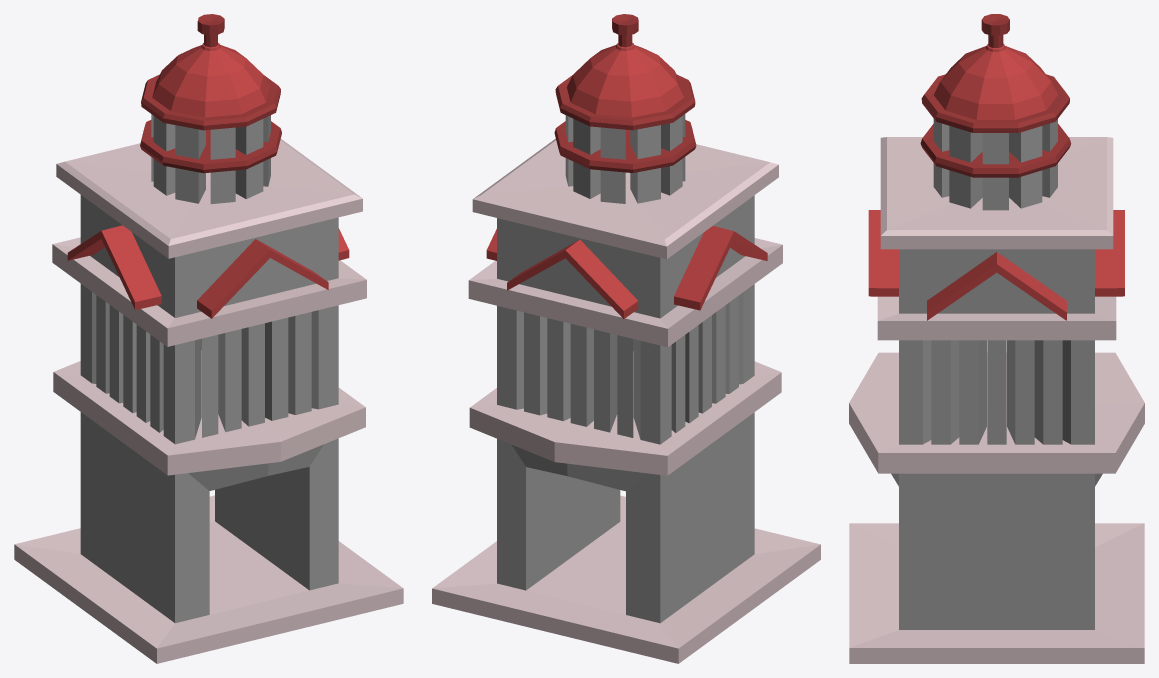
File: house8.fbx
3 views of the same model, side by side, from view 1: azimuth 30°, elevation 25°; view 2: azimuth 150°, elevation 25°; view 3: azimuth 270°, elevation 25° (orthographic). The views are drawn at different scales.
Visible parts, largest first — view 1: mid_build _LOD0; view 2: mid_build _LOD0; view 3: mid_build _LOD0.
Part boxes in pixels (x1,y1,x2,y2): mid_build _LOD0: [14, 14, 403, 663]; mid_build _LOD0: [432, 14, 820, 663]; mid_build _LOD0: [849, 14, 1144, 663].
Size of what is drawn, in the model's own units: 2186 by 4758 by 2189.
